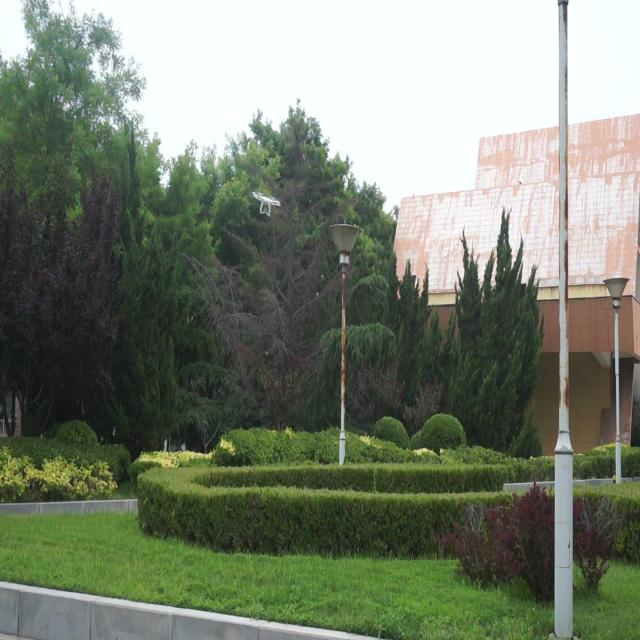drone: (250, 188, 282, 227)
